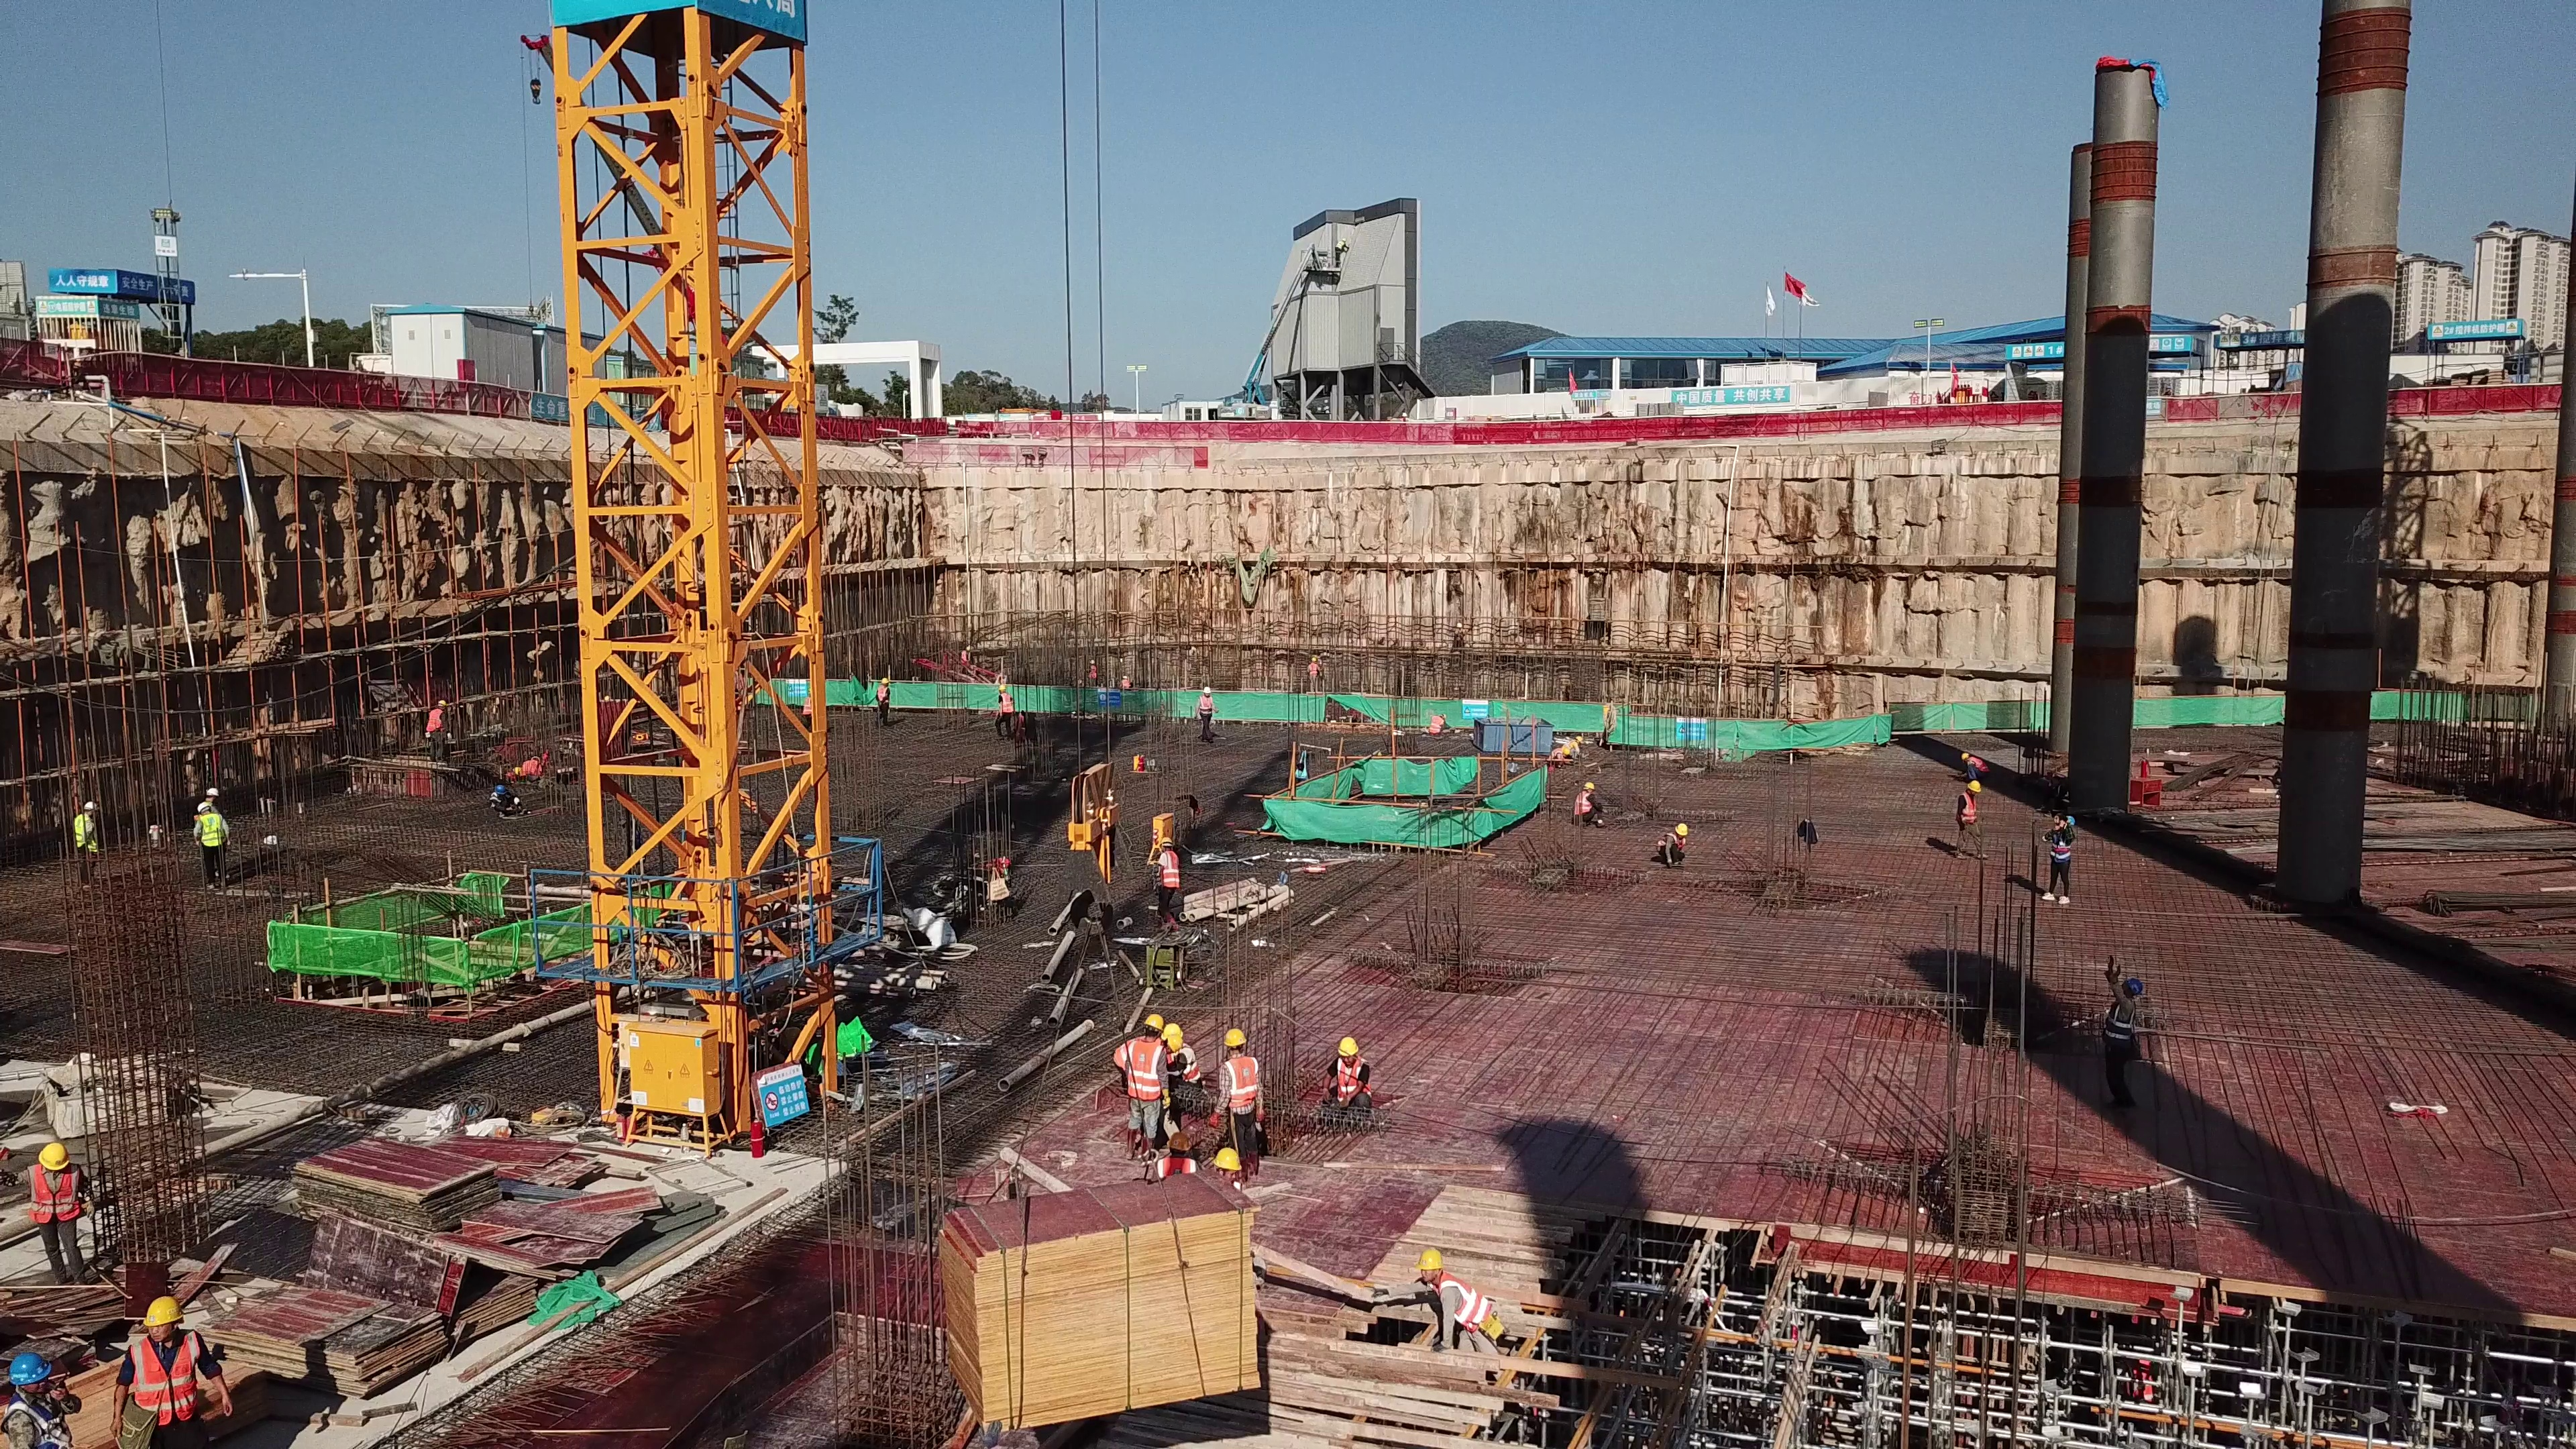helmet: (138, 1299, 185, 1325), (9, 1353, 50, 1379), (1414, 1246, 1451, 1273), (39, 1137, 70, 1169), (1338, 1036, 1366, 1063), (1214, 1147, 1240, 1171), (1159, 1021, 1181, 1049), (1168, 1131, 1195, 1152), (1222, 1029, 1247, 1048), (1143, 1014, 1164, 1032), (203, 782, 223, 799), (1966, 782, 1982, 796), (2065, 812, 2080, 826), (1674, 821, 1687, 835), (2125, 980, 2140, 993), (1576, 733, 1589, 748), (1584, 780, 1599, 791), (197, 799, 213, 809), (1562, 745, 1570, 761), (1159, 835, 1172, 846), (493, 784, 508, 792), (431, 700, 446, 708), (1959, 753, 1969, 761), (84, 803, 95, 811)
person: (112, 1283, 244, 1444), (1398, 1236, 1527, 1377), (27, 1147, 112, 1285), (9, 1348, 97, 1449), (2098, 951, 2151, 1120), (1209, 1026, 1268, 1136), (1122, 1006, 1160, 1163), (192, 772, 237, 896), (1144, 828, 1189, 934), (1323, 1030, 1375, 1120), (2042, 806, 2082, 907), (64, 783, 103, 888), (1211, 1144, 1269, 1207), (1165, 1011, 1209, 1090), (1951, 776, 1988, 862), (1148, 1128, 1197, 1185), (1646, 817, 1691, 871), (1563, 780, 1612, 829), (418, 698, 454, 765), (1193, 680, 1225, 750), (485, 773, 526, 823), (989, 677, 1021, 739), (1550, 722, 1585, 771), (872, 670, 896, 724), (1424, 708, 1456, 739), (1957, 752, 1992, 777), (1306, 653, 1325, 696), (1087, 656, 1102, 688), (955, 641, 973, 668), (1116, 672, 1138, 692)
vest: (133, 1334, 204, 1409), (16, 1392, 76, 1448), (34, 1169, 85, 1226), (1436, 1277, 1487, 1326), (1221, 1056, 1260, 1107), (2103, 994, 2138, 1051), (1129, 1040, 1158, 1099), (1340, 1063, 1369, 1102), (1157, 851, 1179, 893), (199, 817, 227, 853), (1158, 1154, 1191, 1180), (72, 818, 98, 851), (1573, 795, 1595, 819), (2051, 829, 2068, 862), (1659, 834, 1686, 855), (1962, 795, 1977, 828), (427, 708, 443, 732), (521, 762, 541, 780), (1199, 697, 1217, 717), (1967, 757, 1988, 773), (1431, 716, 1446, 734), (1307, 662, 1320, 681)
